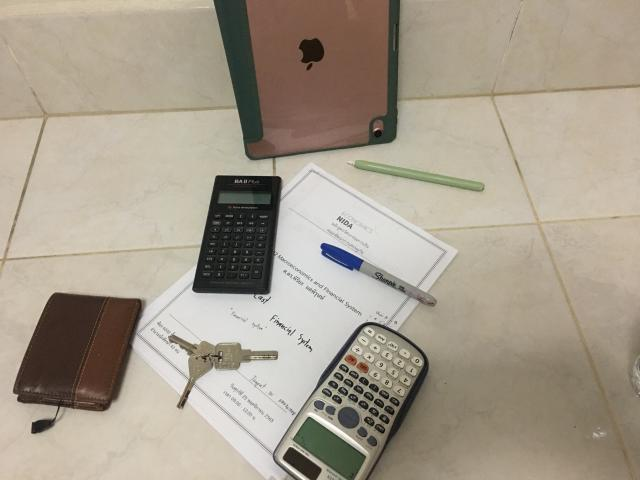Keys: (169, 335, 278, 408)
Pen: (321, 244, 436, 306)
Wallet: (14, 292, 141, 411)
paper: (131, 164, 458, 479)
